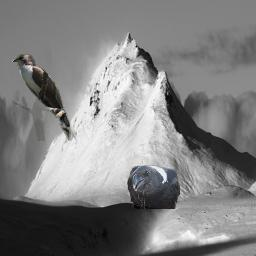Crow: (127, 165, 180, 209)
Cuckoo: (12, 54, 78, 141)
